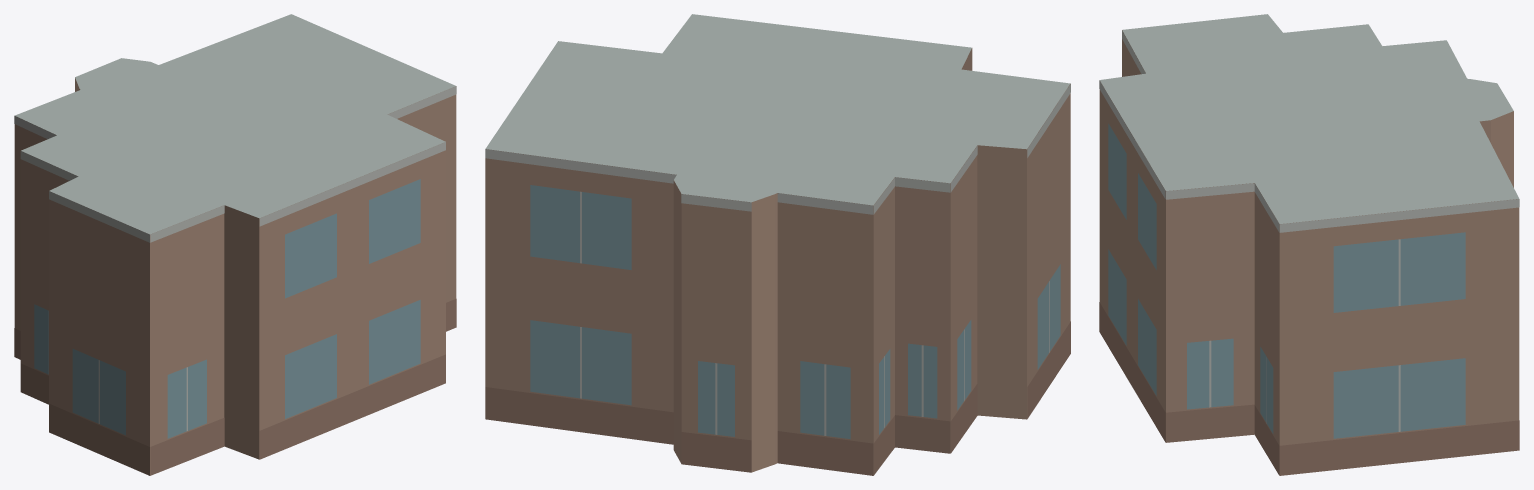
Rendered from survey-upis-32597898.glb.
The picture shows the model from 3 angles, left to right: view 1: azimuth 30°, elevation 25°; view 2: azimuth 150°, elevation 25°; view 3: azimuth 270°, elevation 25°; orthographic projection. The views are drawn at different scales.
Parts seen in each view (by area): view 1: survey-upis-32597898.tmp; view 2: survey-upis-32597898.tmp; view 3: survey-upis-32597898.tmp.
Boxes of the visible parts, x1,y1,x2,y2 form: survey-upis-32597898.tmp: (14, 14, 456, 475); survey-upis-32597898.tmp: (485, 14, 1070, 475); survey-upis-32597898.tmp: (1099, 14, 1519, 475).
Size of the model in its own units: 12.64 by 7.05 by 10.67.
